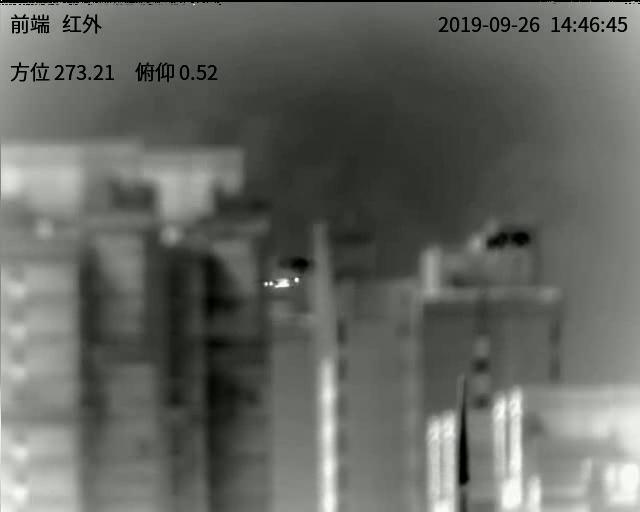DRONE: (262, 277, 300, 289)
